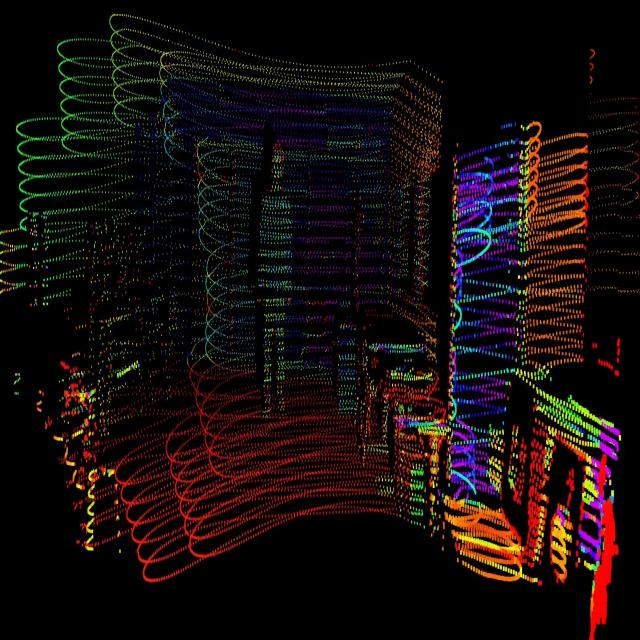human: (253, 135, 304, 429)
